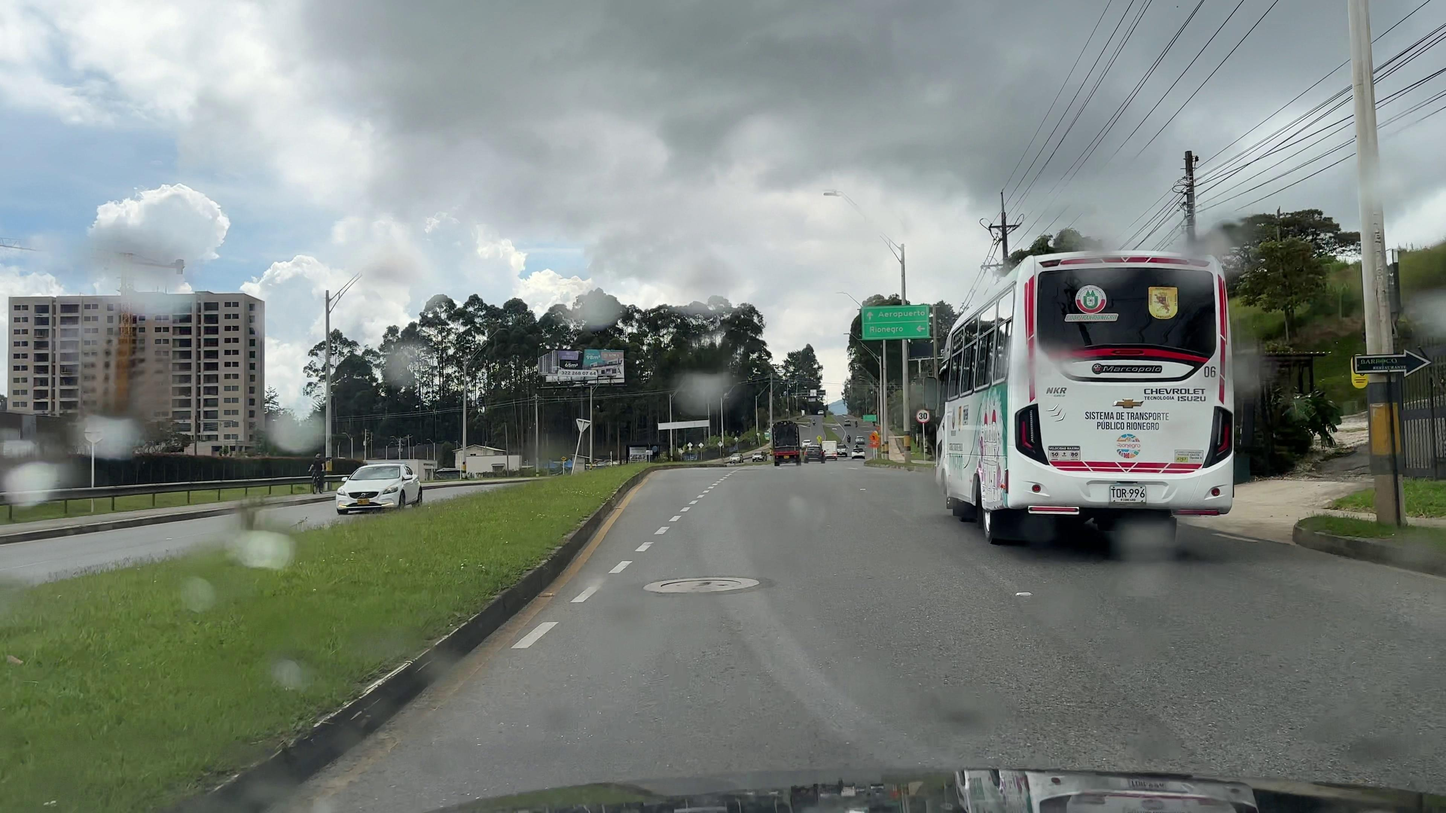registro: (661, 580, 741, 589)
